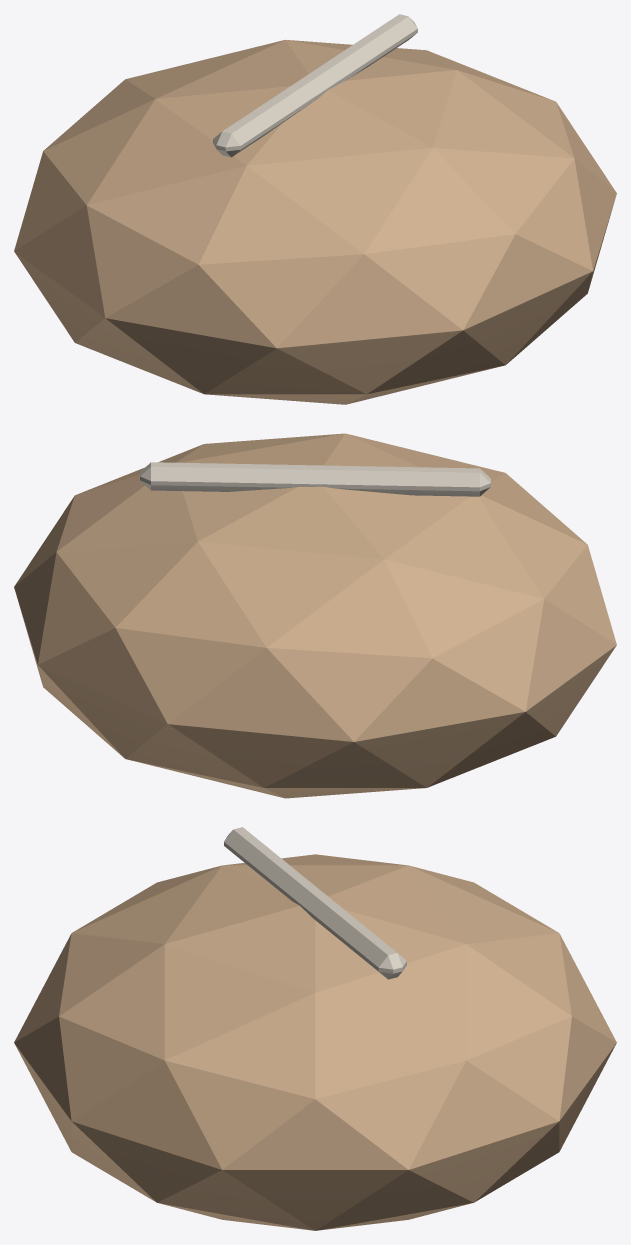
The model's file is prop-moka-bread-round.glb.
3 renders of one model, top to bottom at view 1: azimuth 30°, elevation 25°; view 2: azimuth 150°, elevation 25°; view 3: azimuth 270°, elevation 25°, orthographic. The views are drawn at different scales.
Parts seen in each view (by area): view 1: prop-moka-bread-round; view 2: prop-moka-bread-round; view 3: prop-moka-bread-round.
Part boxes in pixels (box(x1,y1,x2,y2)): prop-moka-bread-round: box(14, 14, 616, 404); prop-moka-bread-round: box(14, 433, 616, 798); prop-moka-bread-round: box(14, 827, 616, 1230).
Size of the model in its own units: 0.28 by 0.15 by 0.28.
